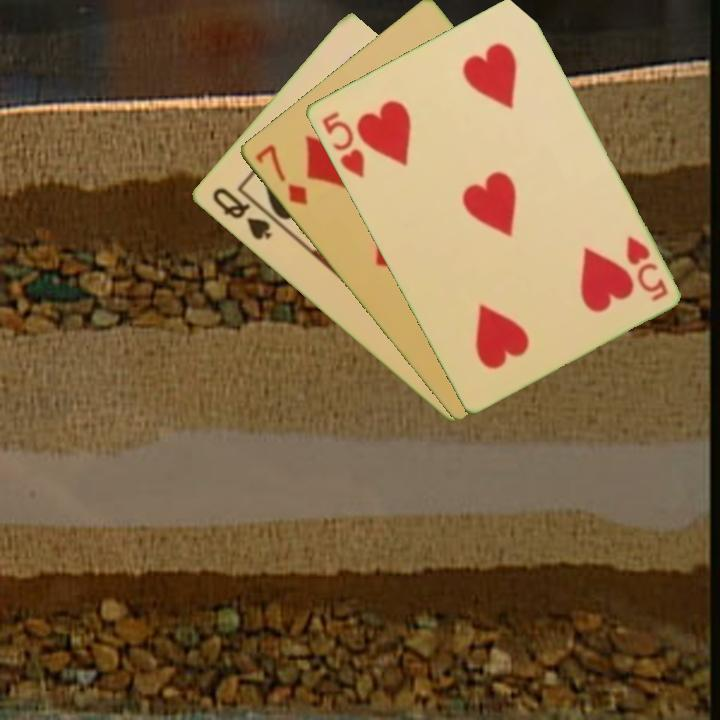5h: (317, 107, 367, 182), (622, 233, 670, 305)
7d: (251, 140, 310, 208)
Qs: (208, 184, 275, 243)
